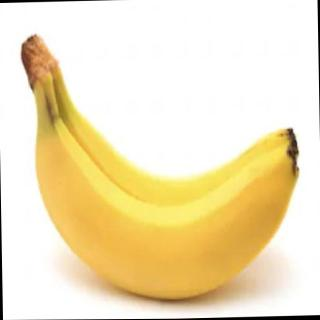banana: (32, 114, 302, 306), (42, 108, 298, 258)
